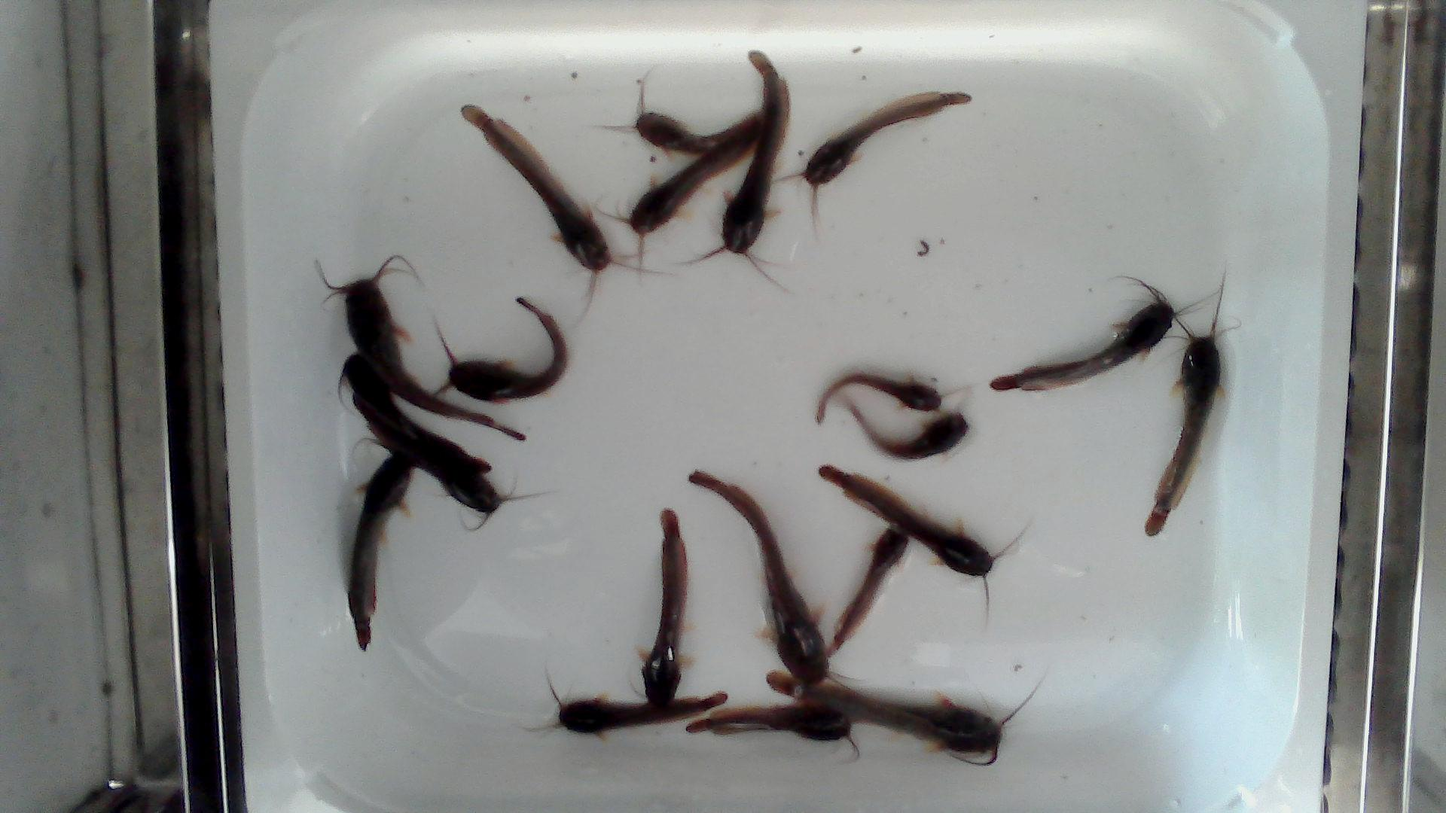lele: (315, 251, 526, 444), (775, 92, 970, 241), (689, 470, 828, 674), (768, 672, 1043, 769), (682, 54, 785, 298), (462, 106, 610, 272), (990, 281, 1213, 390), (821, 466, 996, 576), (346, 396, 497, 512), (340, 356, 491, 471), (1149, 307, 1222, 536), (629, 123, 765, 236), (591, 75, 764, 154), (449, 297, 567, 401), (349, 455, 410, 650), (829, 530, 906, 651), (642, 510, 688, 706), (819, 375, 943, 429), (850, 403, 969, 458), (560, 699, 715, 735), (685, 707, 849, 739)
